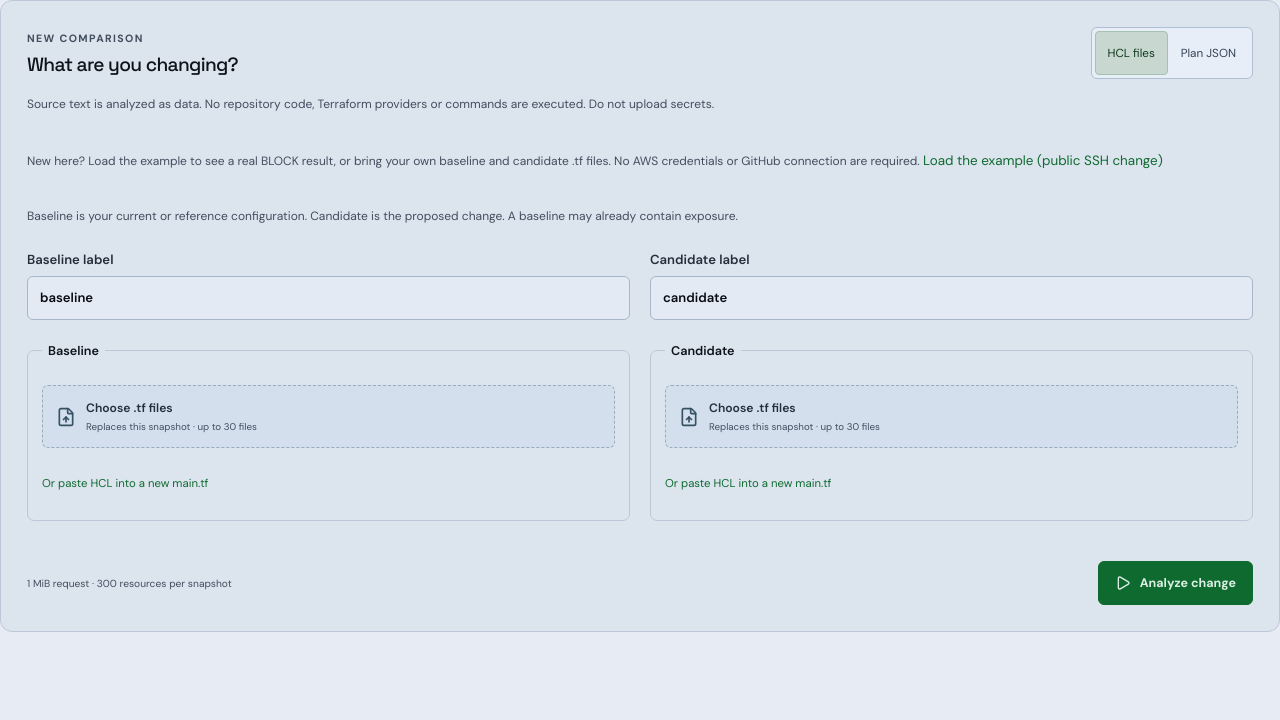
Test: AnalysisForm public example loader › shows an API error and leaves editors empty when the example is unavailable
Click the button "Load the example (public SSH change)". click: (1043, 161)
box: [923,139,1163,183]
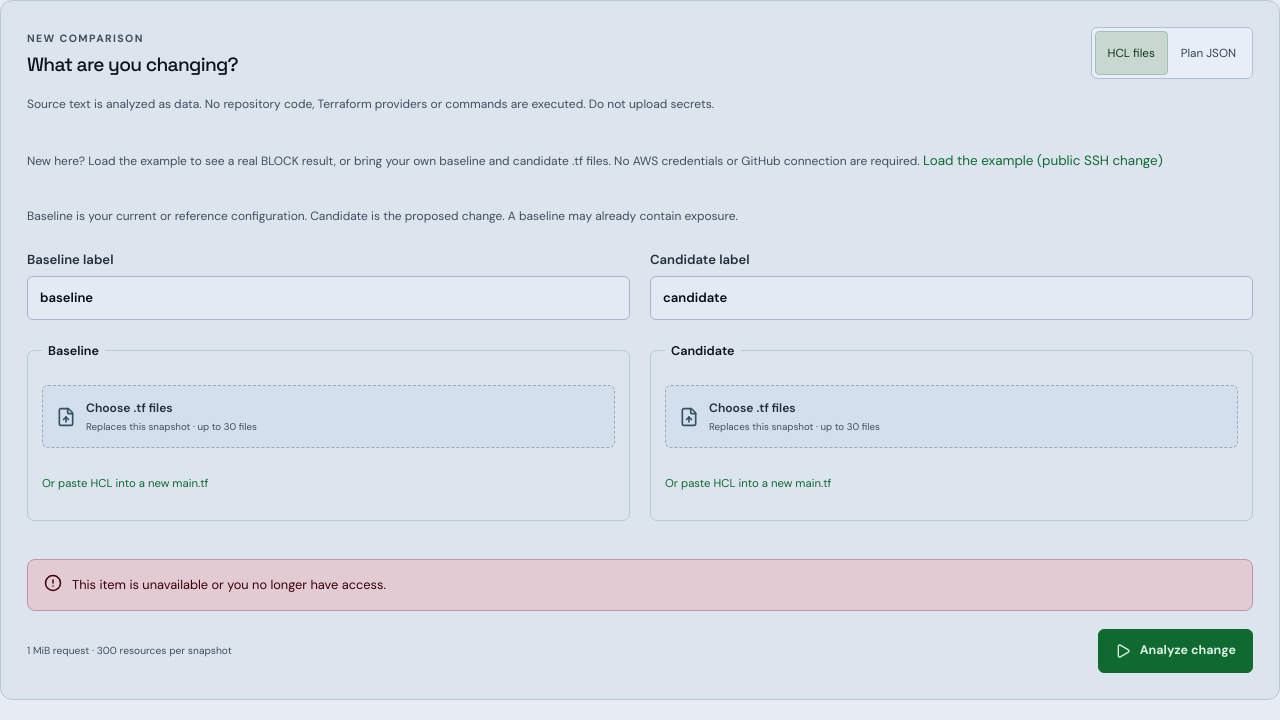
Expected: the message shows "This item is unavailable", [72,576,386,594]
